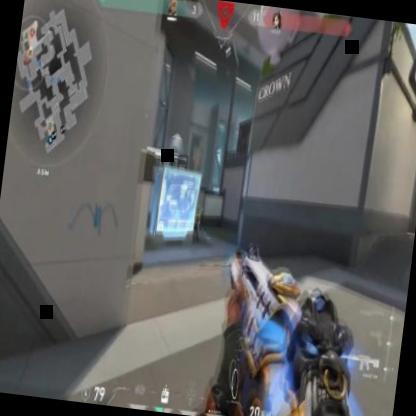enemy: (190, 204, 202, 242)
enemy_head: (196, 206, 199, 211)
